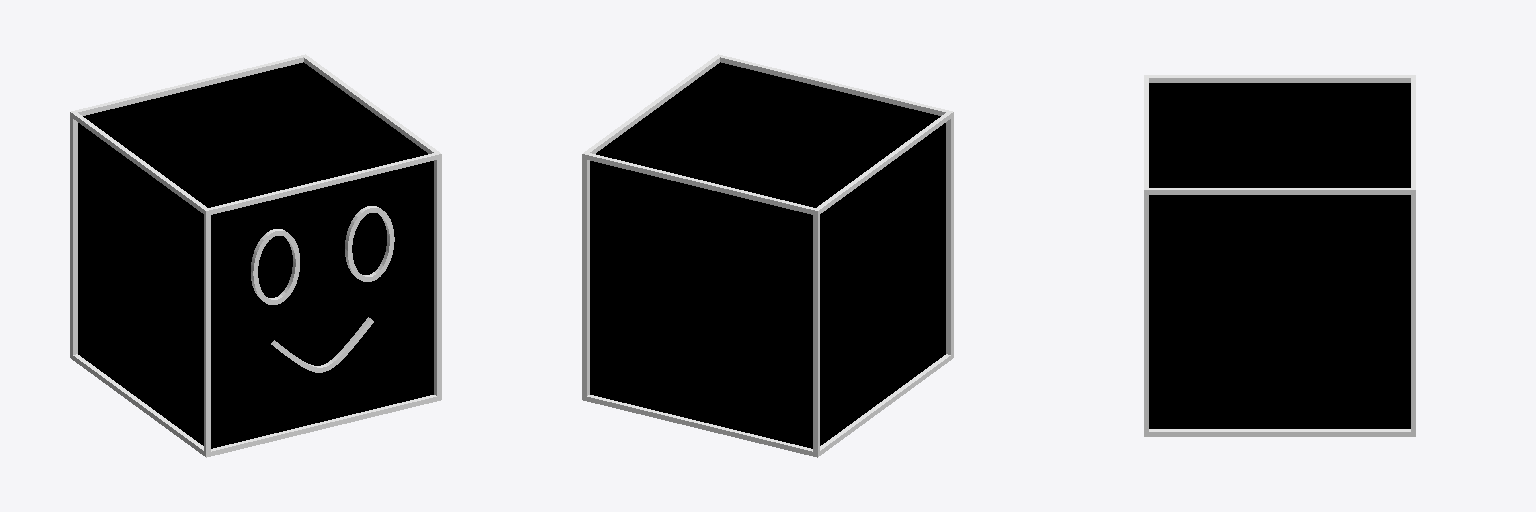
The model's file is TheCubeCharacter.obj.
3 renders of one model, left to right at view 1: azimuth 30°, elevation 25°; view 2: azimuth 150°, elevation 25°; view 3: azimuth 270°, elevation 25°, orthographic.
Parts seen in each view (by area): view 1: TheCubeCharacter; view 2: TheCubeCharacter; view 3: TheCubeCharacter.
Part boxes in pixels (left/top/right/bottom): TheCubeCharacter: left=70, top=54, right=441, bottom=457; TheCubeCharacter: left=582, top=54, right=953, bottom=457; TheCubeCharacter: left=1144, top=75, right=1415, bottom=436.
Size of the model in its own units: 1 by 1 by 1.